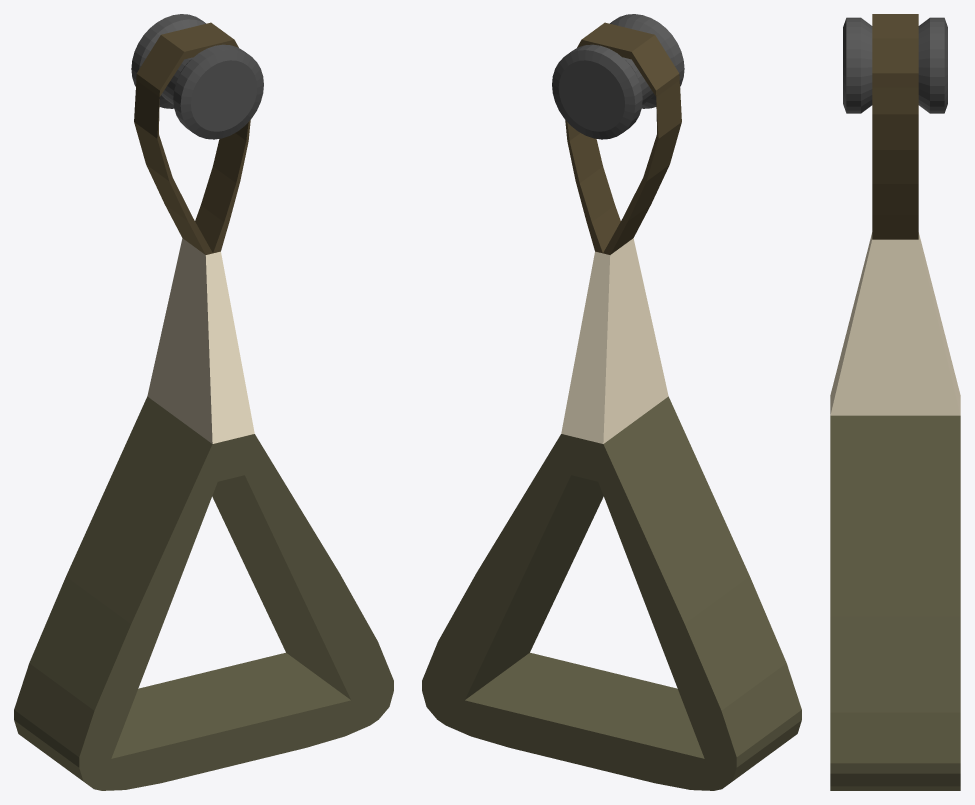
The model's file is Handles.fbx.
3 views of the same model, side by side, from view 1: azimuth 30°, elevation 25°; view 2: azimuth 150°, elevation 25°; view 3: azimuth 270°, elevation 25° (orthographic).
Visible parts, largest first — view 1: Cylinder.003; view 2: Cylinder.003; view 3: Cylinder.003.
Part boxes in pixels (x1,y1,x2,y2): Cylinder.003: [14, 14, 393, 790]; Cylinder.003: [422, 14, 801, 790]; Cylinder.003: [830, 14, 960, 790].
Bounding box in the file's own units: 69.05 × 149 × 24.79.
